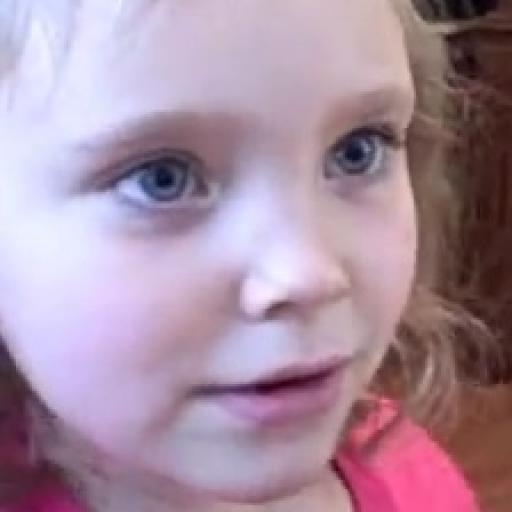Autism: (19, 25, 466, 512)
